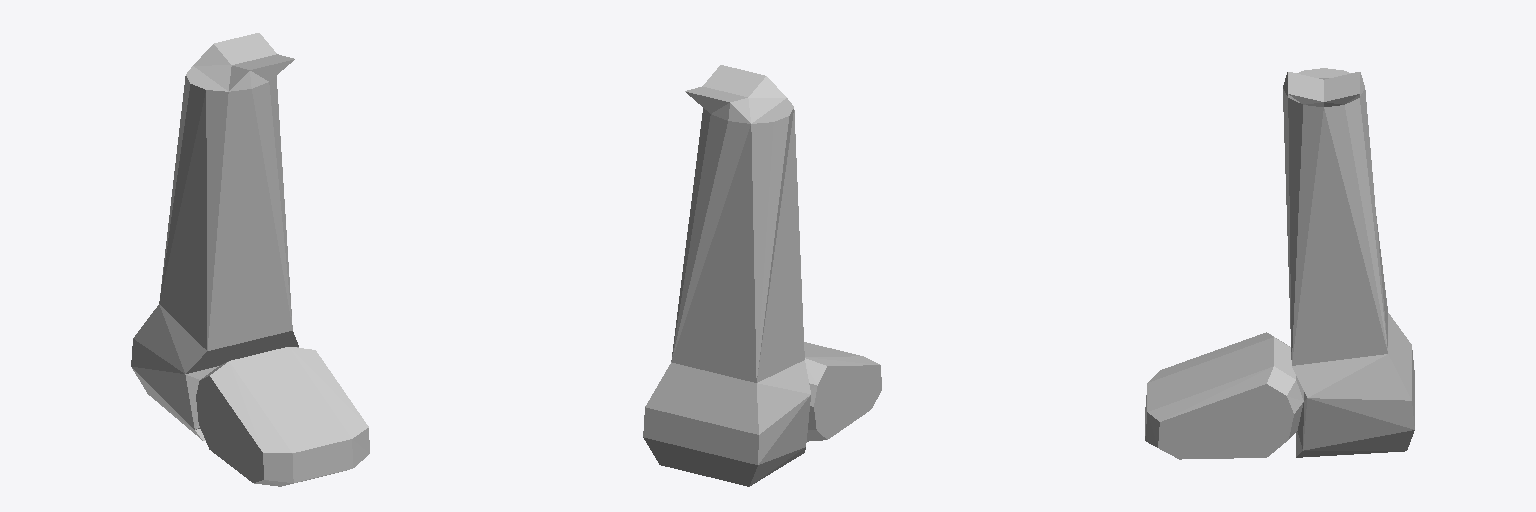
File: robot_lowerleg.obj
3 renders of one model, left to right at view 1: azimuth 30°, elevation 25°; view 2: azimuth 150°, elevation 25°; view 3: azimuth 270°, elevation 25°, orthographic.
Size of the model in its own units: 0.3907 by 1.19 by 0.7945.